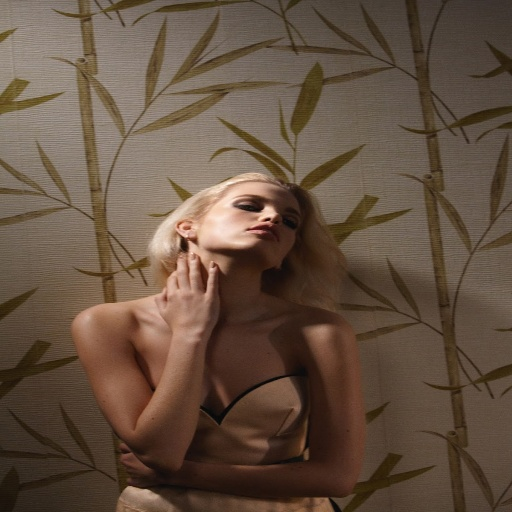hand: (147, 236, 231, 358), (115, 441, 183, 490)
